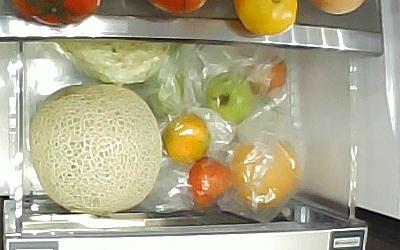cabbage: (54, 39, 175, 85)
melon: (30, 84, 162, 215)
pear_vinyl: (232, 135, 300, 209)
prune_vinyl: (189, 157, 231, 212)
tangerine_vinyl: (162, 114, 210, 167)
tomato_vinyl: (205, 72, 254, 126), (246, 57, 287, 96)
